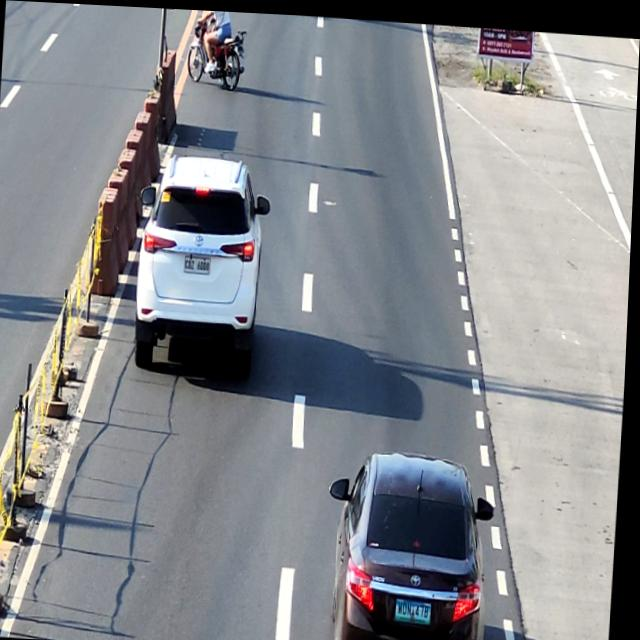Car: (327, 441, 500, 640), (133, 149, 274, 377)
License-Plate: (400, 593, 437, 620), (184, 255, 213, 272)
Motorcycle: (185, 16, 247, 90)
